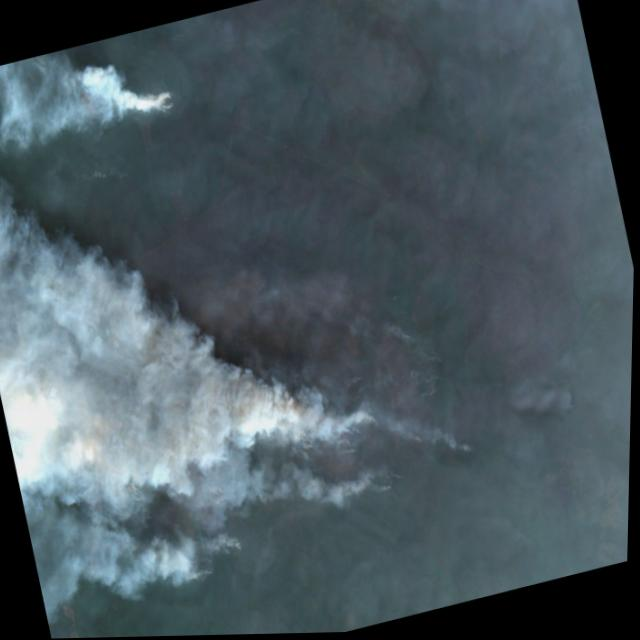fire: (30, 248, 514, 636), (143, 70, 202, 142)
